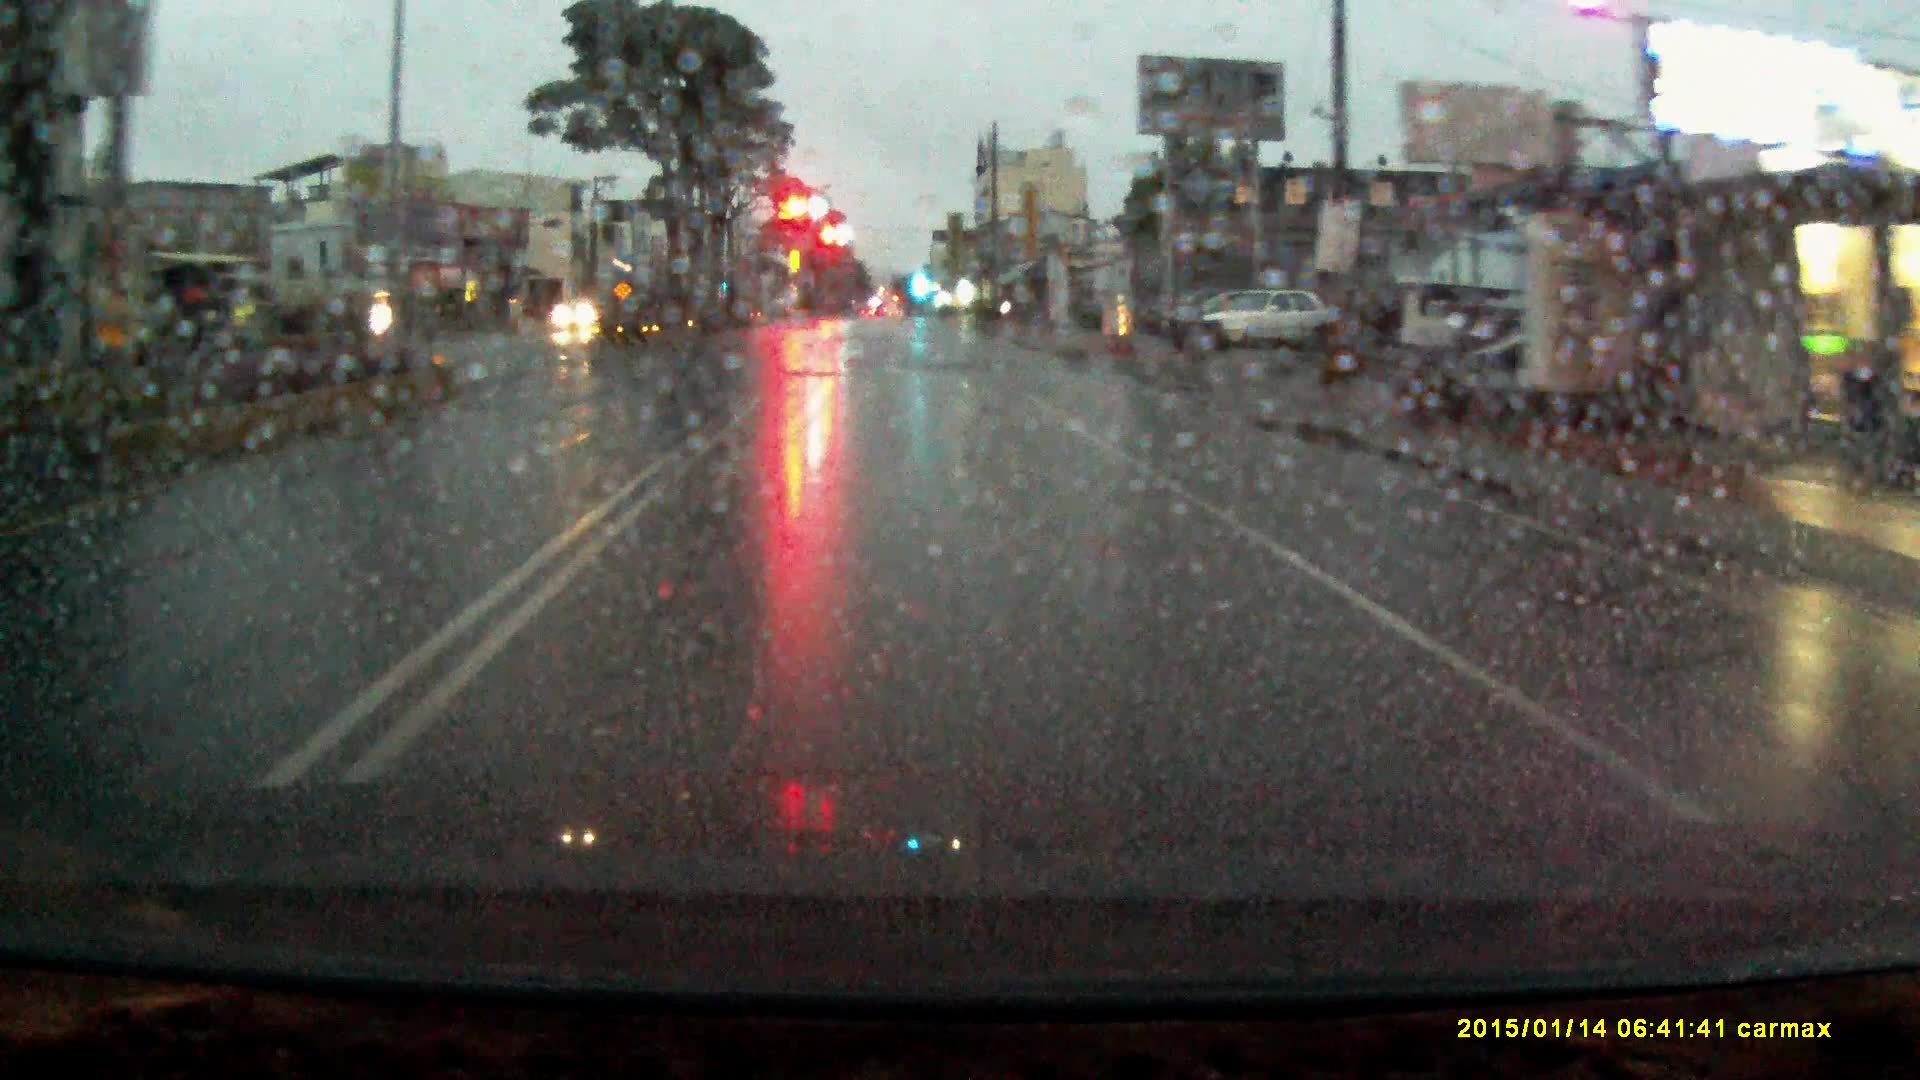vehicle: (1197, 284, 1344, 349), (1164, 290, 1263, 352), (555, 295, 607, 331)
